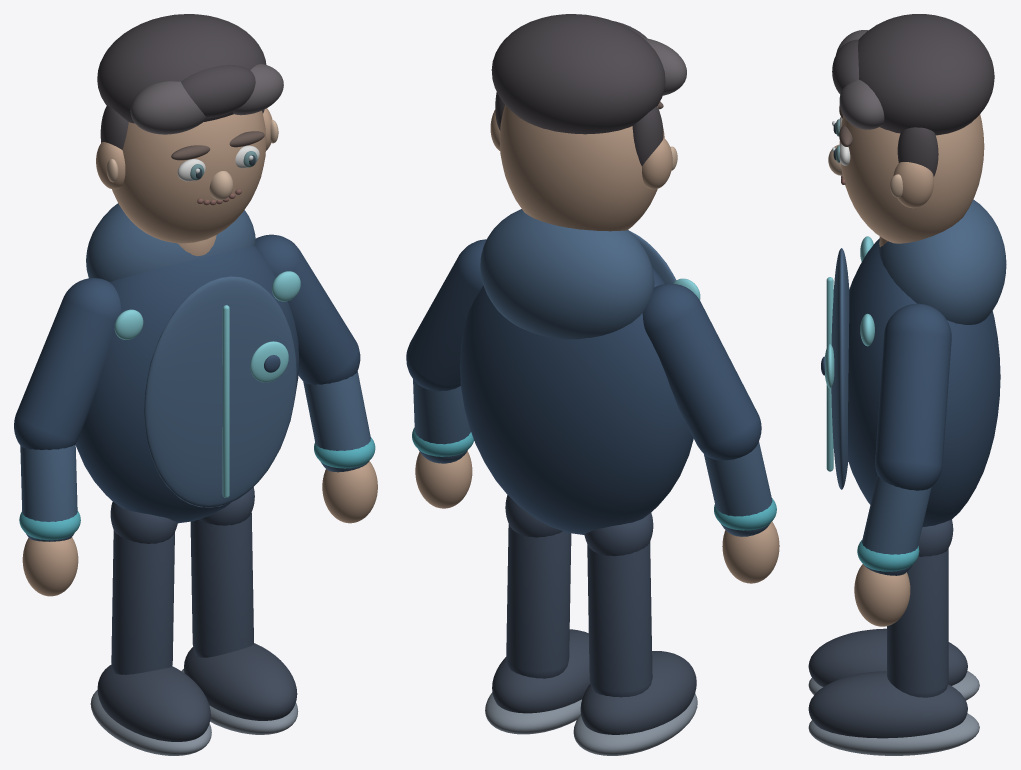
File: sa7bi_mascot.glb
3 views of the same model, side by side, from view 1: azimuth 30°, elevation 25°; view 2: azimuth 150°, elevation 25°; view 3: azimuth 270°, elevation 25° (orthographic). The views are drawn at different scales.
Visible parts, largest first — view 1: hoodie_front_panel, hoodie_body, face, left_upper_sleeve, hair_cap, left_lower_leg, right_lower_leg, right_upper_sleeve, left_shoe, right_shoe, hood_back, left_forearm_sleeve (+18 smaller); view 2: hoodie_body, hood_back, hair_cap, face, left_upper_sleeve, left_lower_leg, right_lower_leg, right_upper_sleeve, left_shoe, right_shoe, left_forearm_sleeve, right_forearm_sleeve (+12 smaller); view 3: hoodie_body, hair_cap, right_upper_sleeve, face, hood_back, right_shoe, right_lower_leg, right_forearm_sleeve, left_shoe, hoodie_front_panel, right_shoe_sole, right_hand (+10 smaller).
Part boxes in pixels (x1=…): hoodie_front_panel: x1=144, y1=276, x2=296, y2=507; hoodie_body: x1=75, y1=246, x2=299, y2=523; face: x1=112, y1=110, x2=266, y2=243; left_upper_sleeve: x1=14, y1=278, x2=120, y2=449; hair_cap: x1=97, y1=14, x2=266, y2=123; left_lower_leg: x1=111, y1=530, x2=174, y2=674; right_lower_leg: x1=190, y1=513, x2=253, y2=657; right_upper_sleeve: x1=255, y1=234, x2=360, y2=384; left_shoe: x1=97, y1=664, x2=210, y2=741; right_shoe: x1=184, y1=643, x2=297, y2=720; hood_back: x1=86, y1=203, x2=255, y2=281; left_forearm_sleeve: x1=20, y1=444, x2=77, y2=541; hoodie_body: x1=460, y1=267, x2=693, y2=534; hood_back: x1=480, y1=209, x2=654, y2=339; hair_cap: x1=491, y1=14, x2=665, y2=134; face: x1=499, y1=104, x2=664, y2=231; left_upper_sleeve: x1=642, y1=283, x2=761, y2=460; left_lower_leg: x1=587, y1=542, x2=652, y2=697; right_lower_leg: x1=506, y1=524, x2=571, y2=678; right_upper_sleeve: x1=406, y1=239, x2=486, y2=391; left_shoe: x1=580, y1=651, x2=696, y2=734; right_shoe: x1=492, y1=629, x2=590, y2=713; left_forearm_sleeve: x1=704, y1=441, x2=772, y2=536; right_forearm_sleeve: x1=413, y1=379, x2=470, y2=463; hoodie_body: x1=848, y1=238, x2=1000, y2=527; hair_cap: x1=858, y1=14, x2=994, y2=135; right_upper_sleeve: x1=875, y1=303, x2=951, y2=490; face: x1=839, y1=114, x2=984, y2=243; hood_back: x1=878, y1=199, x2=1006, y2=324; right_shoe: x1=808, y1=671, x2=967, y2=738; right_lower_leg: x1=887, y1=548, x2=948, y2=697; right_forearm_sleeve: x1=862, y1=474, x2=931, y2=575; left_shoe: x1=808, y1=628, x2=967, y2=686; hoodie_front_panel: x1=831, y1=248, x2=849, y2=489; right_shoe_sole: x1=808, y1=713, x2=979, y2=755; right_hand: x1=854, y1=564, x2=910, y2=626.
Bounding box in the file's own units: 1.37 × 2.61 × 0.67.
